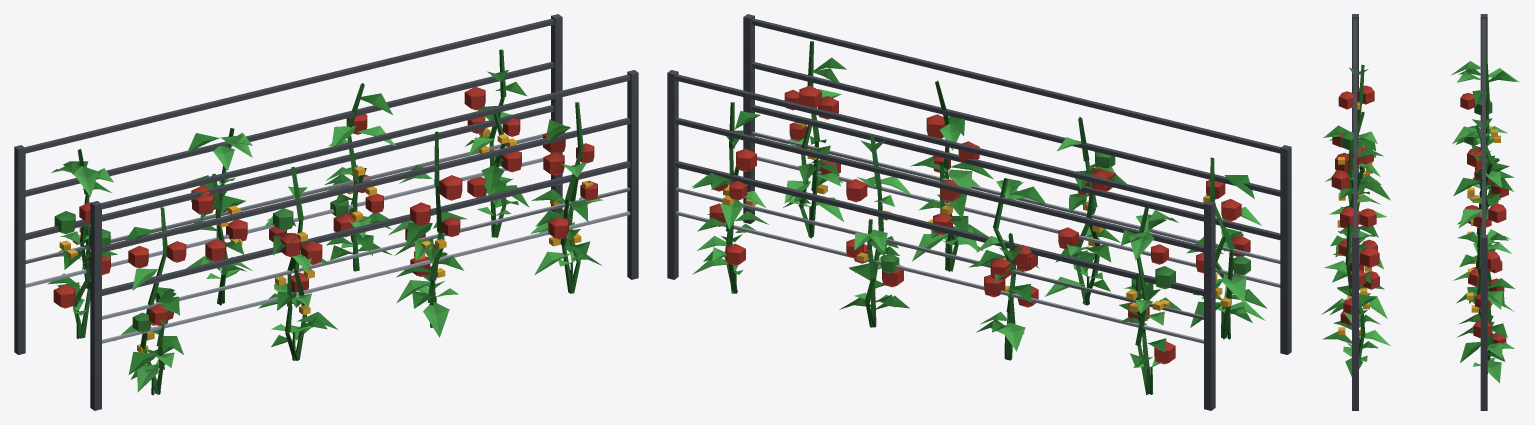
The model's file is crop_tomato.glb.
The picture shows the model from 3 angles, left to right: view 1: azimuth 30°, elevation 25°; view 2: azimuth 150°, elevation 25°; view 3: azimuth 270°, elevation 25°; orthographic projection. The views are drawn at different scales.
Visible parts, largest first — view 1: Stage3, Stage2, Stage1; view 2: Stage3, Stage2, Stage1; view 3: Stage3, Stage2, Stage1.
Boxes of the visible parts, x1=… form: Stage3: x1=14, y1=14, x2=638, y2=409; Stage2: x1=14, y1=59, x2=638, y2=410; Stage1: x1=14, y1=102, x2=638, y2=410; Stage3: x1=667, y1=14, x2=1291, y2=409; Stage2: x1=667, y1=59, x2=1291, y2=409; Stage1: x1=667, y1=102, x2=1291, y2=410; Stage3: x1=1324, y1=14, x2=1519, y2=410; Stage2: x1=1321, y1=53, x2=1514, y2=410; Stage1: x1=1341, y1=90, x2=1495, y2=410.
Size of the model in its own units: 2.63 by 0.9538 by 0.9972.
